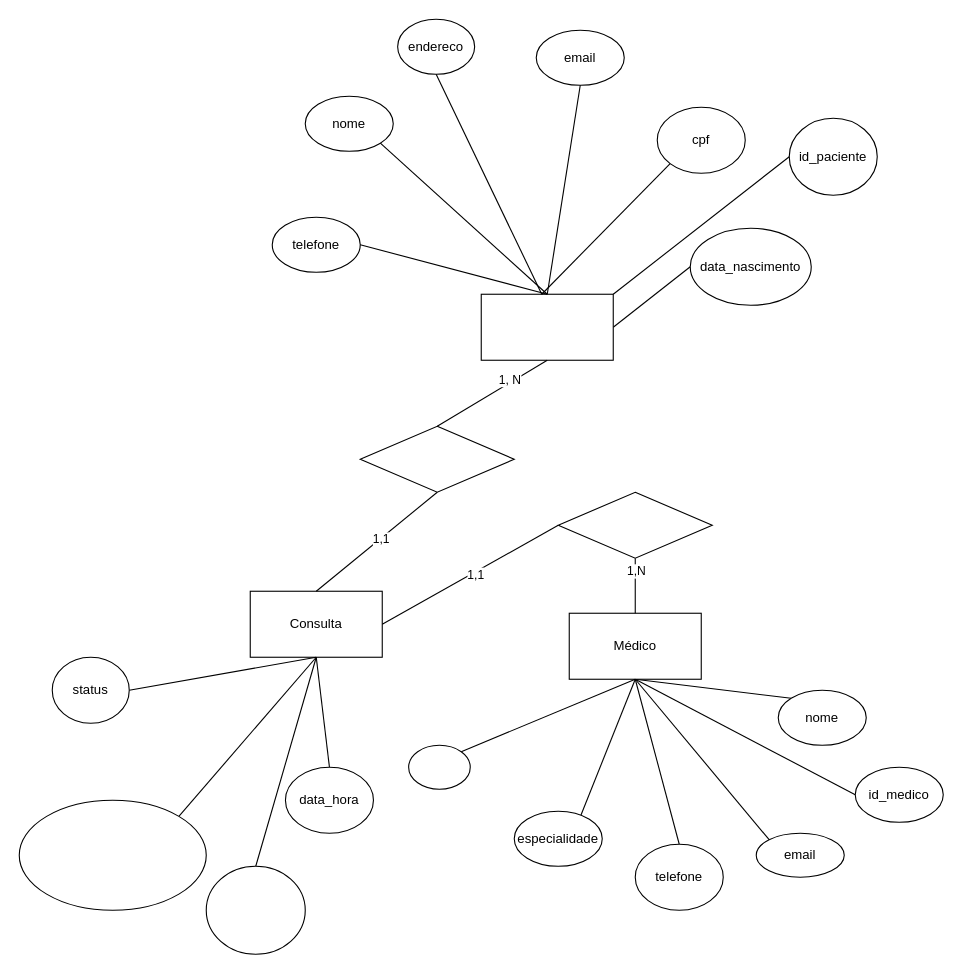
Some shapes in this 963 by 974 pixel diagram are drawn without their labels. The centre of each missing label's shape, as x and y in pixels:
Agendando: the point at 436,458
Atendendo: the point at 634,524
crm: the point at 439,766
id_consulta: the point at 255,909
observacoes_diagnostico: the point at 112,854
Paciente: the point at 546,326
